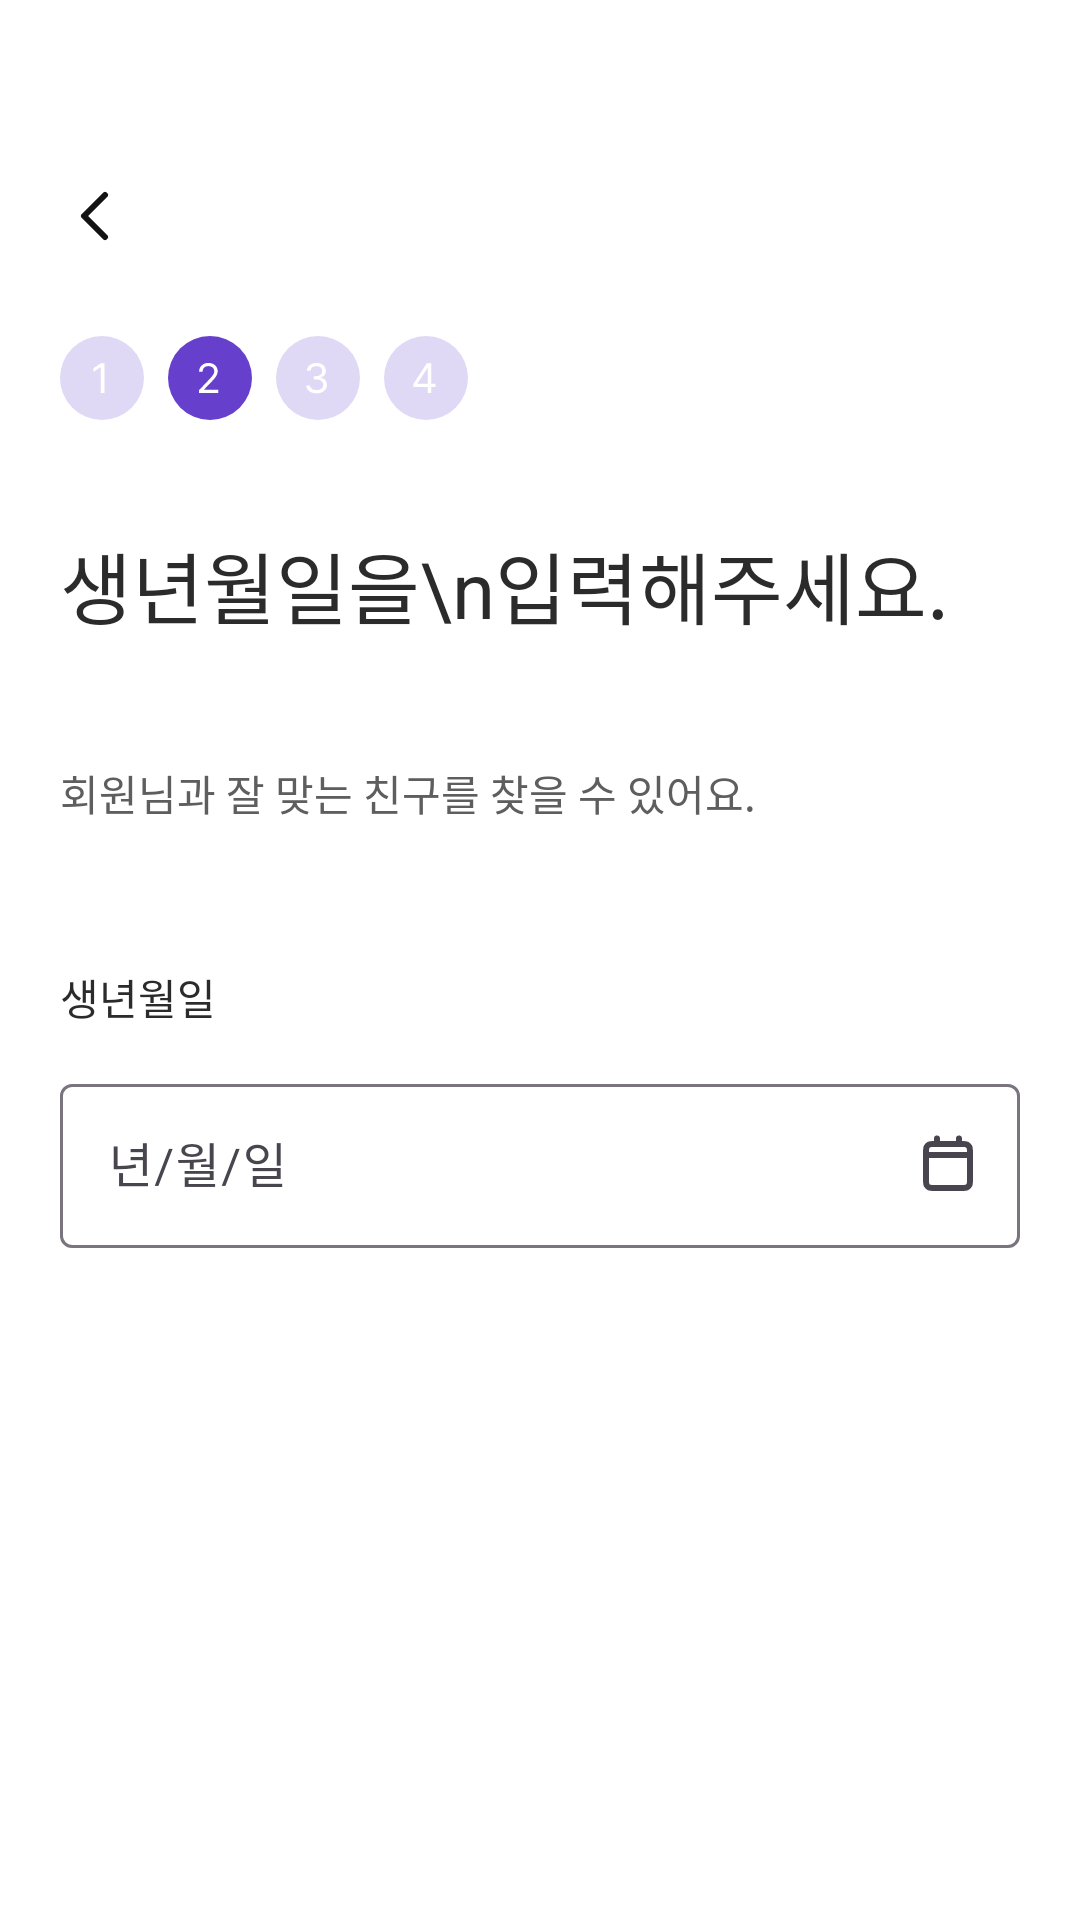

Named icons in this screenshot (1080px×1920px) and their bounding boxes, (x1,y1,x2,y2):
chevron left: (81,192,108,240)
register num: (60,336,144,420), (276,336,360,420), (384,336,468,420)
register num sel: (168,336,252,420)
